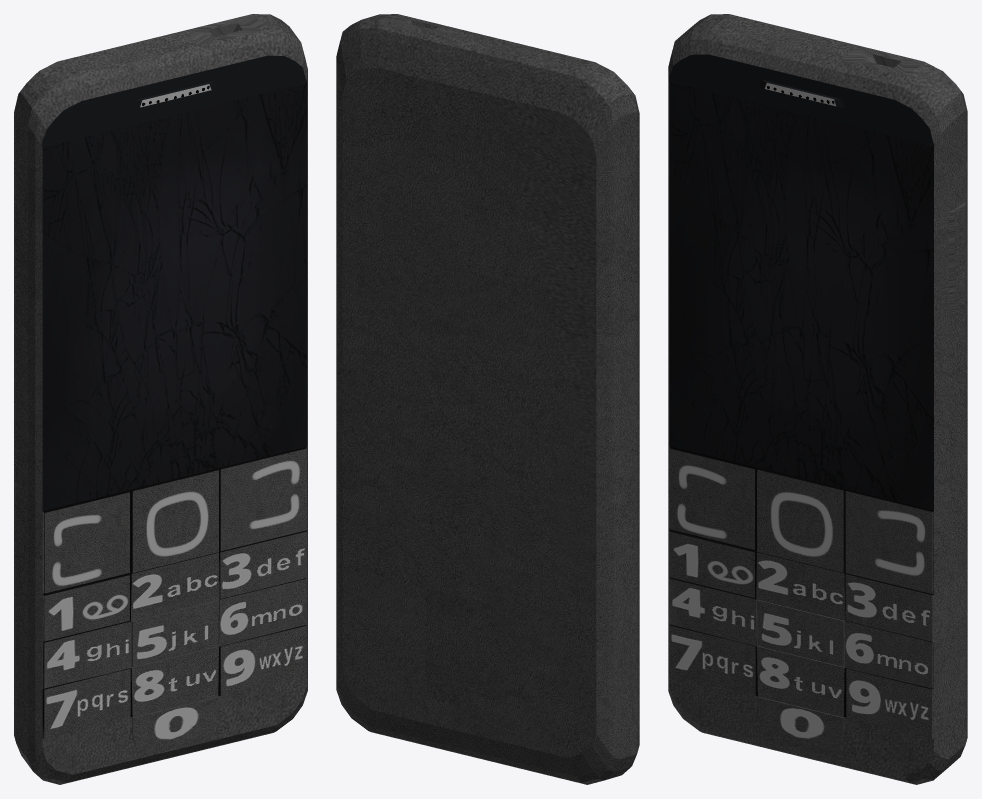
The model's file is telefone_final.fbx.
The picture shows the model from 3 angles, left to right: view 1: azimuth 30°, elevation 25°; view 2: azimuth 150°, elevation 25°; view 3: azimuth 330°, elevation 25°; orthographic projection.
Parts seen in each view (by area): view 1: Plano; view 2: Plano; view 3: Plano.
Boxes of the visible parts, bbox=[...] form: Plano: bbox=[14, 14, 307, 784]; Plano: bbox=[336, 14, 639, 784]; Plano: bbox=[668, 14, 967, 784].
Bounding box in the file's own units: 201 × 481 × 40.72.
1 material, 1 textured.
